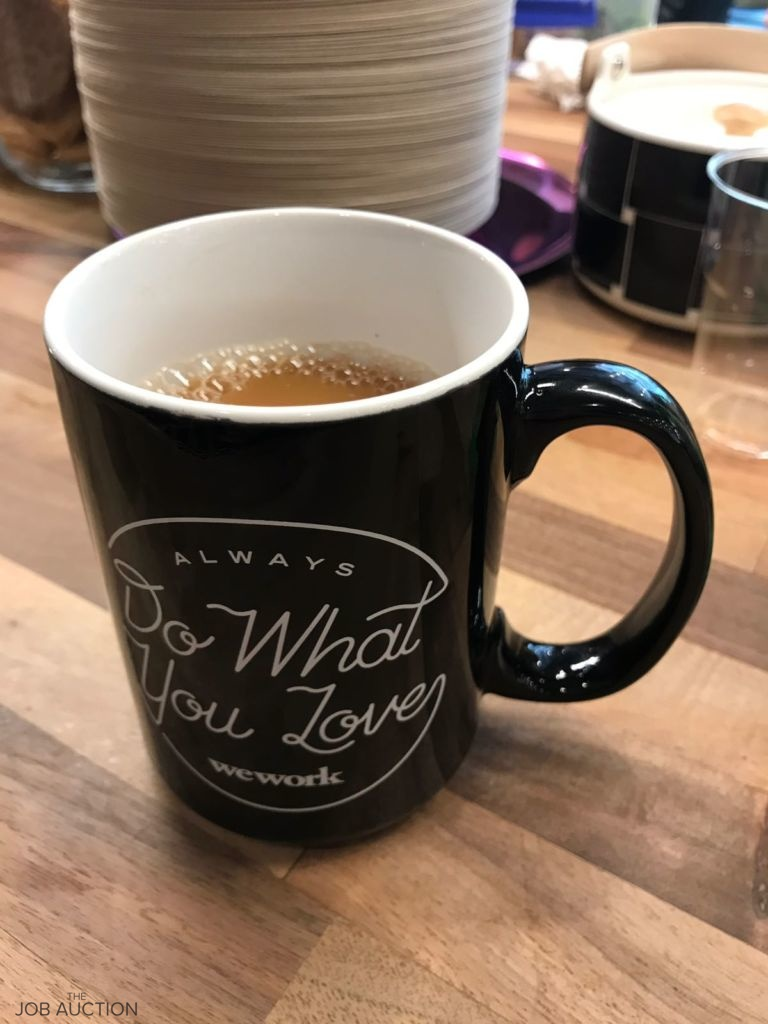wework: (205, 753, 347, 789)
